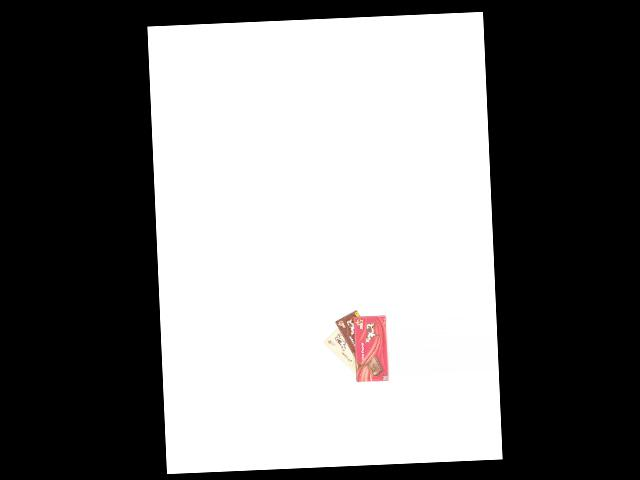chocolate: (322, 319, 362, 381)
